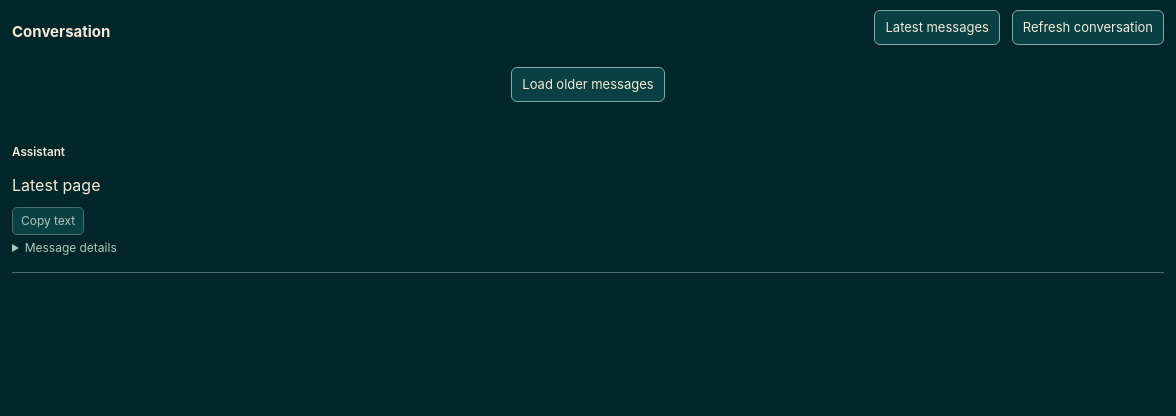
unified conversation pages › starts at latest and prepends older entries using the exact server cursor
The image size is (1176, 416).
(page scrolled)
expect the text "Latest page" is shown: met, box [12,175,100,195]
Click the button "Load older messages" at coordinates (588, 84), box [511,67,665,102]
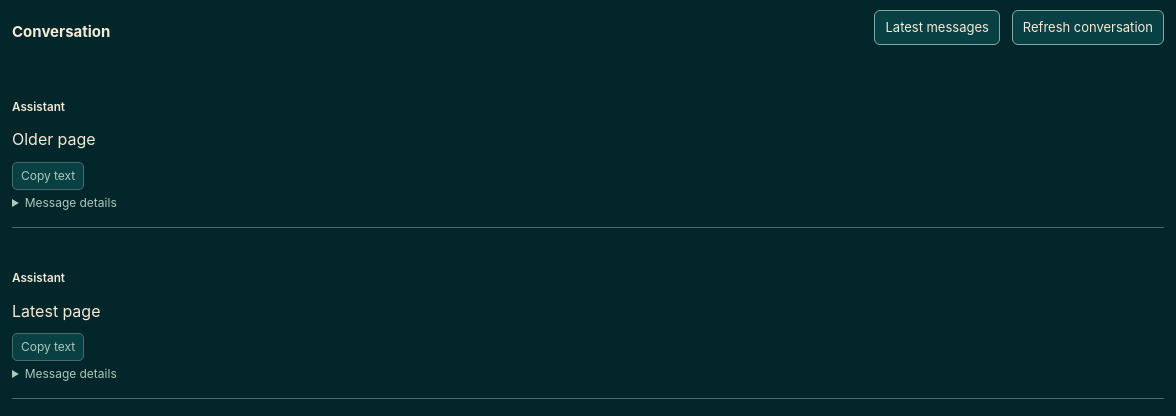
expect the text "Latest page" is shown: met, box [12,301,100,321]
expect the text "Older page" is shown: met, box [12,129,96,149]
